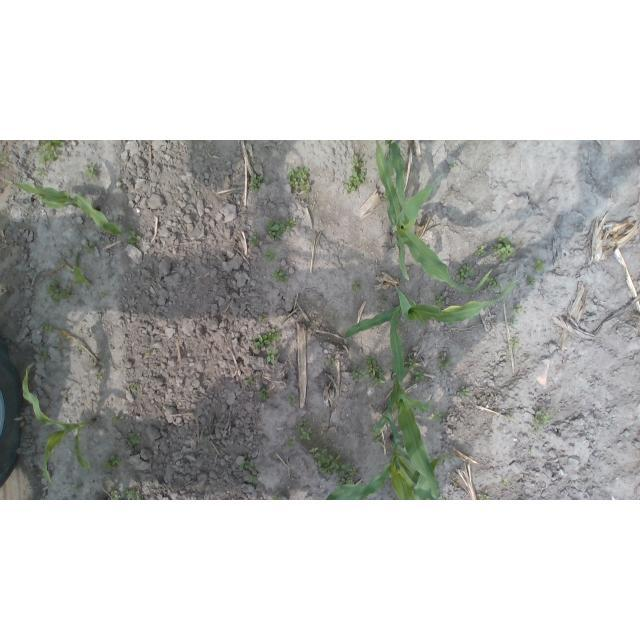Maize: (375, 140, 493, 294), (375, 305, 441, 500), (326, 414, 457, 500), (344, 281, 518, 340), (23, 363, 96, 485), (4, 179, 128, 236), (386, 140, 407, 210)
Weeds: (310, 444, 340, 476), (344, 155, 367, 194), (45, 277, 72, 308), (286, 166, 313, 197), (72, 251, 92, 287), (363, 356, 385, 387), (266, 218, 296, 239), (38, 140, 64, 164), (493, 236, 516, 262), (253, 328, 281, 348), (336, 460, 358, 485), (296, 420, 313, 441), (456, 264, 474, 282), (535, 412, 552, 431), (104, 455, 120, 471), (127, 230, 142, 247), (250, 174, 264, 192), (439, 357, 456, 371), (271, 268, 289, 281), (404, 359, 417, 376), (111, 414, 125, 427), (37, 348, 50, 362), (123, 435, 141, 445), (124, 490, 142, 500), (266, 349, 278, 364), (369, 428, 380, 444), (412, 370, 425, 383), (352, 367, 365, 380), (84, 163, 96, 177), (486, 277, 500, 289), (40, 320, 53, 332), (36, 168, 48, 181), (474, 246, 488, 257), (258, 388, 270, 400), (264, 248, 276, 260), (534, 260, 544, 273), (432, 411, 445, 421), (0, 150, 8, 166), (258, 312, 268, 324), (508, 339, 520, 349), (85, 242, 96, 252), (286, 436, 296, 447), (110, 491, 122, 500), (459, 387, 469, 397), (352, 281, 361, 292), (249, 236, 260, 245), (436, 296, 444, 308), (239, 460, 249, 469), (507, 409, 515, 420), (512, 305, 520, 316), (272, 492, 281, 501), (96, 372, 105, 381), (288, 396, 297, 405), (527, 277, 536, 285), (251, 476, 258, 485), (101, 291, 110, 298), (479, 494, 489, 500), (72, 484, 80, 491), (245, 377, 253, 384), (502, 480, 509, 487), (251, 467, 257, 475), (329, 360, 335, 368), (508, 320, 516, 326), (396, 318, 402, 325), (432, 287, 438, 293), (132, 388, 137, 393), (451, 163, 457, 167), (507, 349, 510, 355)
